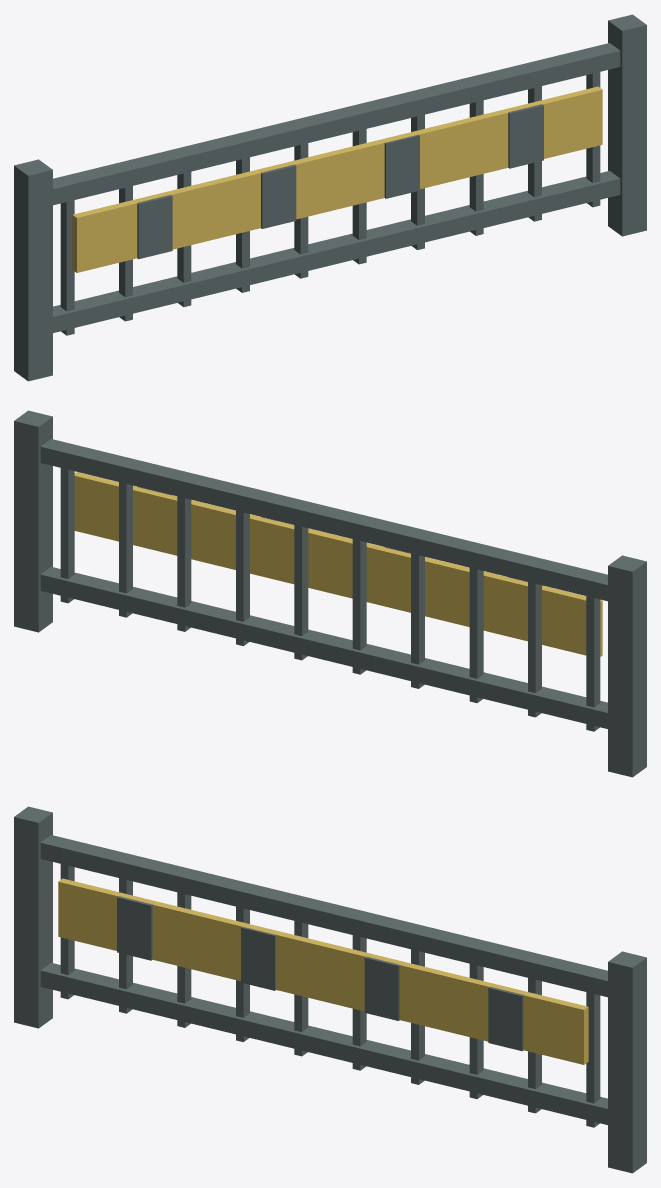
3 renders of one model, top to bottom at view 1: azimuth 30°, elevation 25°; view 2: azimuth 150°, elevation 25°; view 3: azimuth 330°, elevation 25°, orthographic.
Bounding box in the file's own units: 4 × 1.27 × 0.2.
